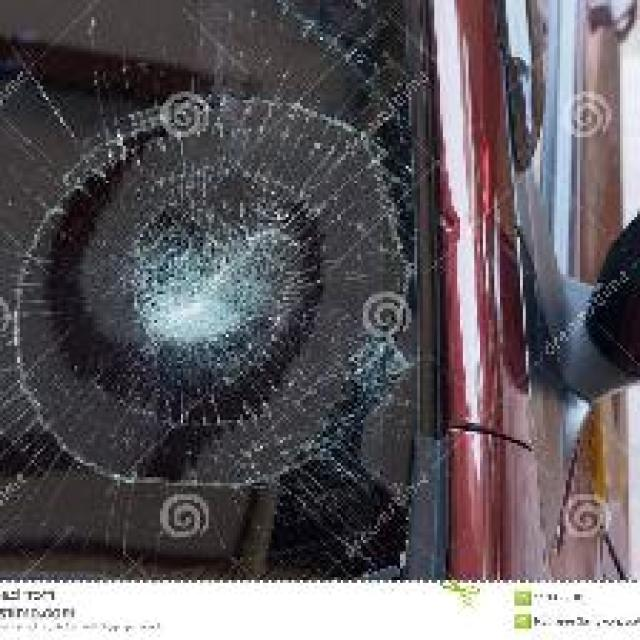glass_shatter_moderate: (46, 89, 386, 483)
